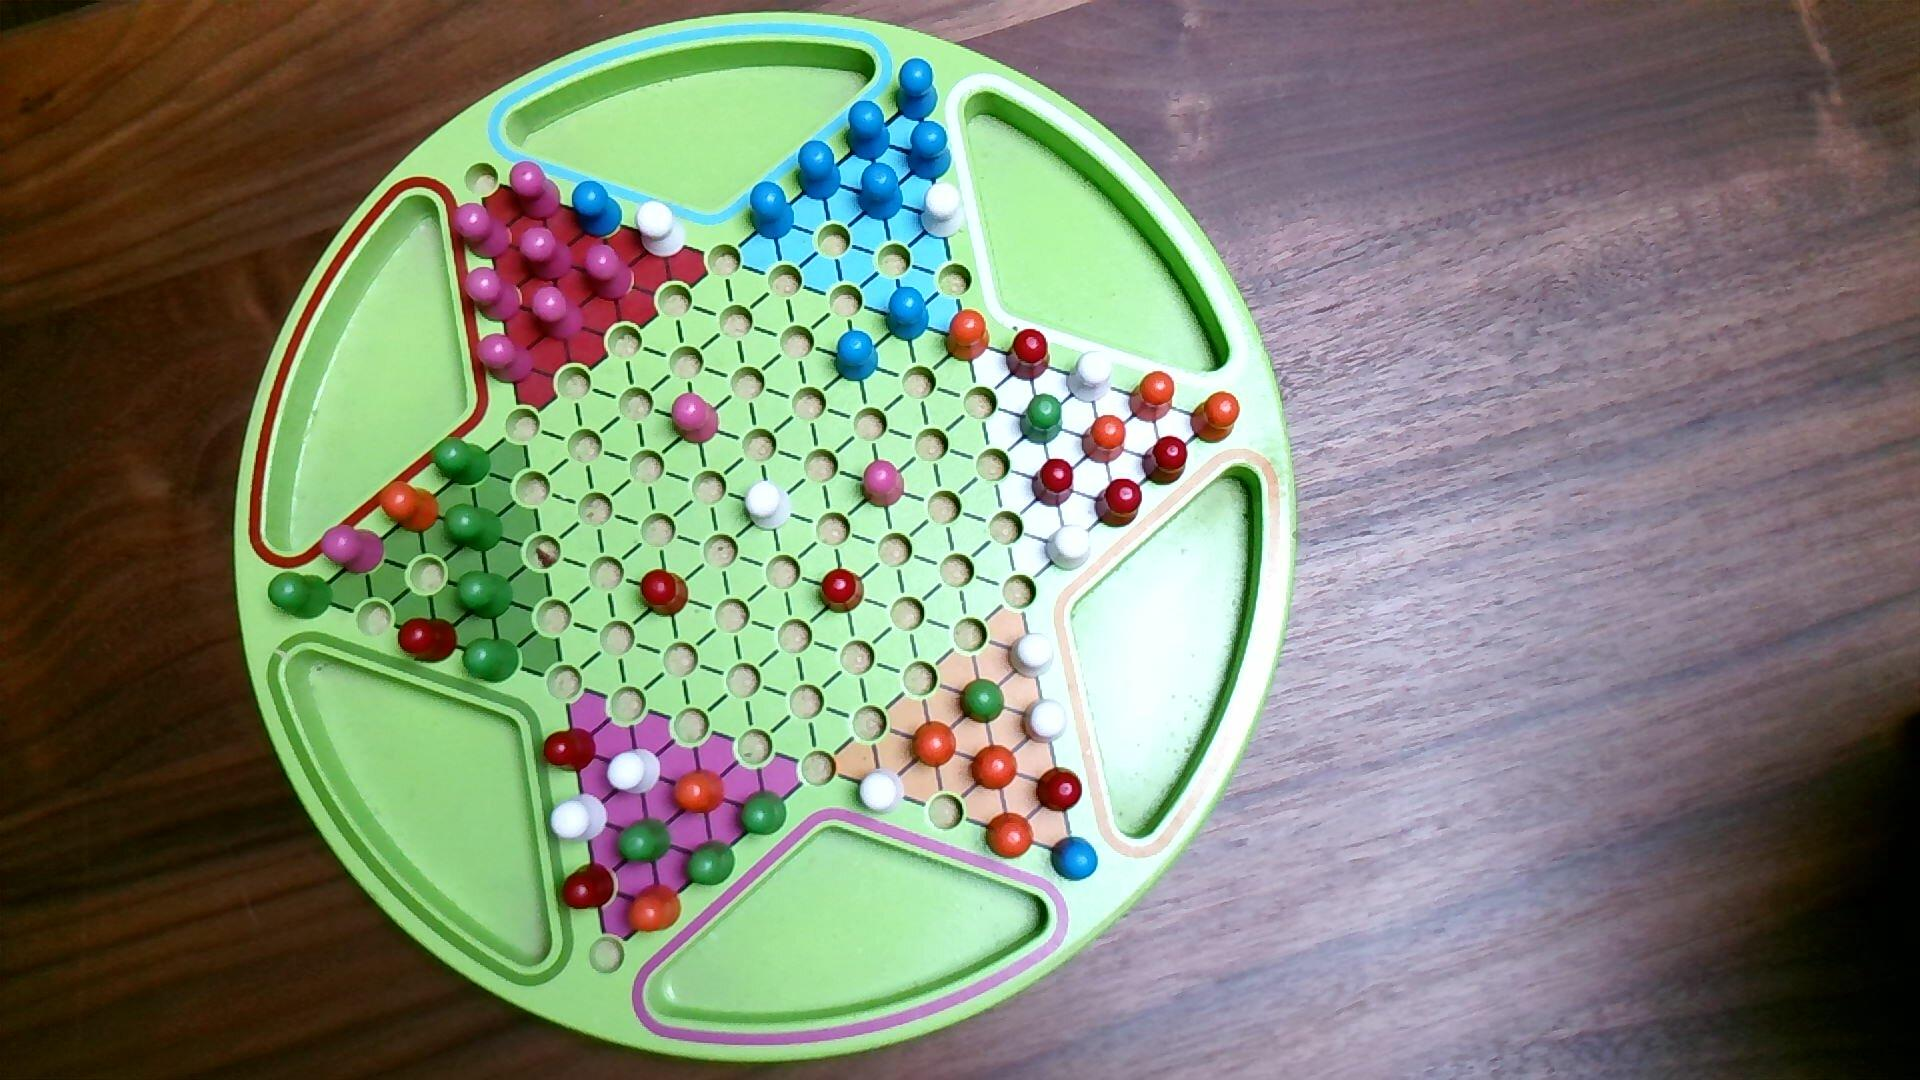B: (570, 179, 625, 241), (891, 55, 940, 123), (905, 119, 953, 183), (844, 99, 893, 164), (749, 179, 796, 243), (796, 140, 844, 203), (858, 164, 906, 223), (885, 285, 931, 344), (833, 328, 881, 384), (1051, 835, 1100, 884)
G: (266, 570, 336, 622), (442, 502, 505, 555), (430, 435, 493, 488), (455, 568, 516, 622), (462, 636, 522, 686), (615, 815, 673, 866), (683, 837, 738, 887), (1018, 392, 1065, 448), (737, 789, 789, 839), (957, 678, 1006, 727)
O: (378, 479, 442, 537), (625, 882, 683, 935), (1189, 389, 1242, 446), (670, 767, 727, 818), (942, 307, 992, 364), (1127, 369, 1178, 425), (985, 810, 1036, 862), (969, 742, 1021, 793), (910, 719, 957, 770), (1081, 413, 1127, 465)
R: (397, 616, 460, 665), (560, 860, 617, 913), (541, 725, 597, 774), (1141, 434, 1189, 488), (1005, 328, 1052, 384), (640, 568, 691, 618), (1095, 477, 1145, 529), (1035, 765, 1084, 815), (1031, 458, 1077, 509), (819, 567, 866, 616)
R2: (452, 202, 513, 262), (319, 524, 386, 578), (463, 265, 524, 324), (508, 160, 563, 223), (517, 225, 575, 284), (582, 243, 636, 305), (530, 285, 587, 343), (475, 332, 535, 385), (671, 392, 721, 446), (861, 458, 907, 509)
W: (636, 199, 688, 262), (549, 793, 611, 844), (605, 746, 665, 798), (919, 179, 967, 243), (1065, 349, 1116, 407), (742, 479, 794, 534), (857, 767, 907, 818), (1007, 632, 1058, 682), (1044, 524, 1095, 574), (1021, 698, 1069, 746)
